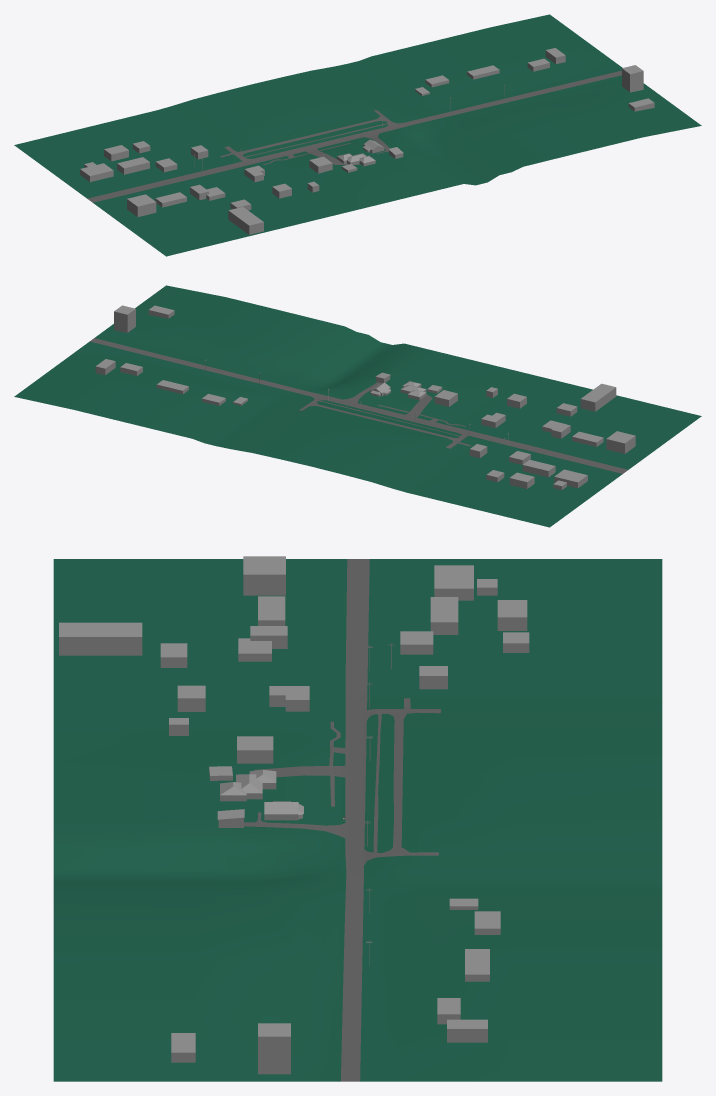
Rendered from seville_city.FBX.
The picture shows the model from 3 angles, top to bottom: view 1: azimuth 30°, elevation 25°; view 2: azimuth 150°, elevation 25°; view 3: azimuth 270°, elevation 25°; orthographic projection. The views are drawn at different scales.
Visible parts, largest first — view 1: map, house_13, house_09, house_15, house_03, house_04; view 2: map, house_13, house_09, house_15, house_03, house_04; view 3: map, house_13, house_09, house_15, house_03, house_04, house_25, house_23, house_17, house_05, house_10, house_19 (+1 smaller).
Boxes of the visible parts, x1,y1,x2,y2 form: map: [14, 14, 701, 256]; house_13: [228, 207, 263, 234]; house_09: [127, 194, 156, 216]; house_15: [622, 65, 643, 92]; house_03: [80, 163, 113, 181]; house_04: [117, 157, 149, 174]; map: [14, 285, 701, 527]; house_13: [580, 383, 616, 411]; house_09: [606, 431, 635, 453]; house_15: [114, 305, 135, 332]; house_03: [554, 469, 587, 488]; house_04: [522, 459, 555, 477]; map: [53, 559, 662, 1081]; house_13: [59, 622, 142, 655]; house_09: [243, 556, 285, 595]; house_15: [258, 1023, 290, 1074]; house_03: [434, 565, 473, 600]; house_04: [430, 597, 458, 634]; house_25: [237, 736, 273, 763]; house_23: [269, 686, 309, 711]; house_17: [447, 1019, 487, 1042]; house_05: [497, 600, 527, 630]; house_10: [258, 596, 285, 625]; house_19: [465, 949, 489, 981].
Bounding box in the file's own units: 441 × 18.53 × 217.
